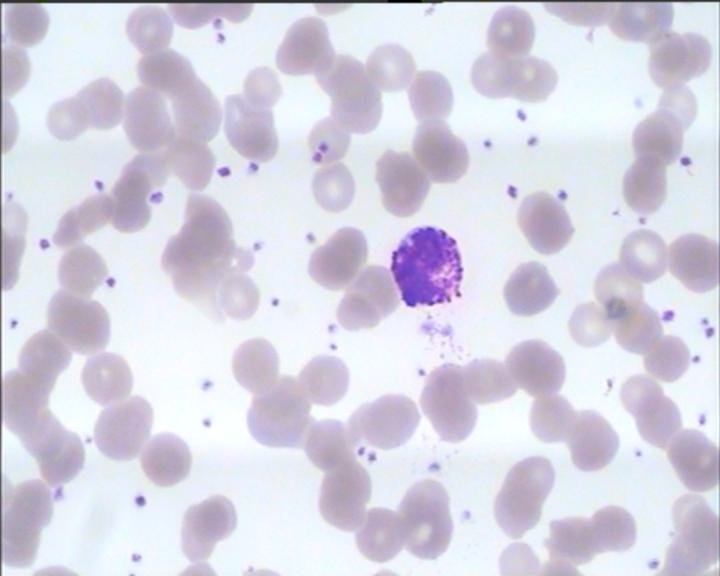baso: (386, 220, 467, 311)
